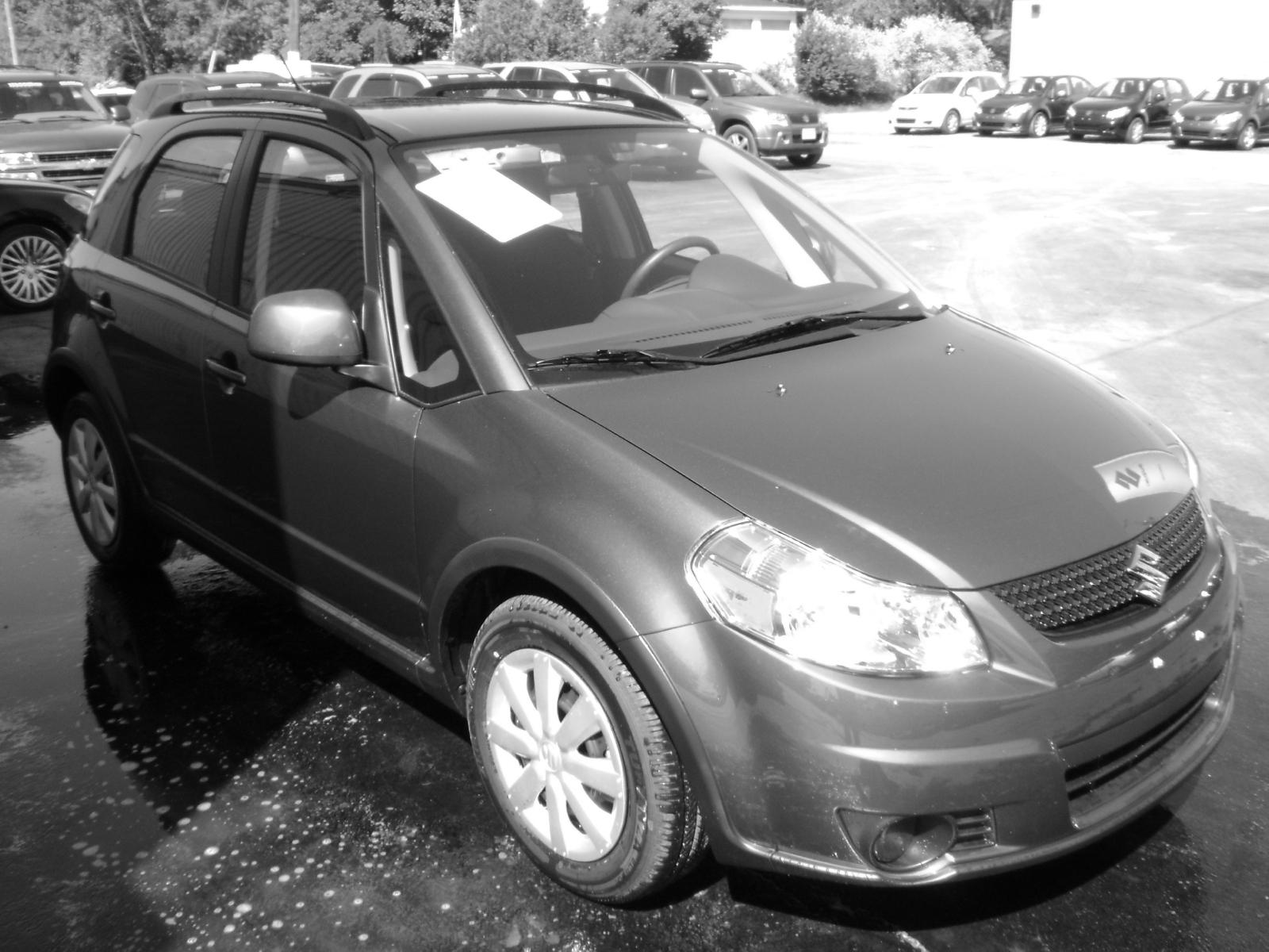car: (34, 67, 1248, 922)
